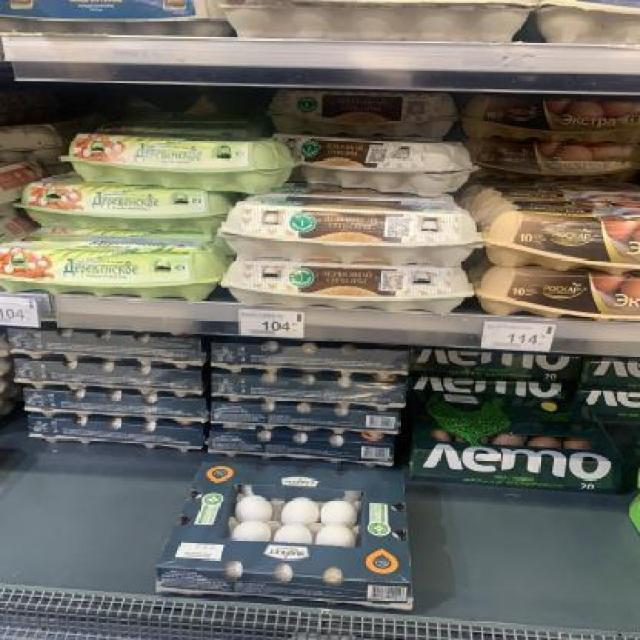Egg: (221, 198, 479, 262), (223, 255, 474, 313), (274, 133, 472, 193), (466, 96, 640, 139), (466, 140, 640, 182)
